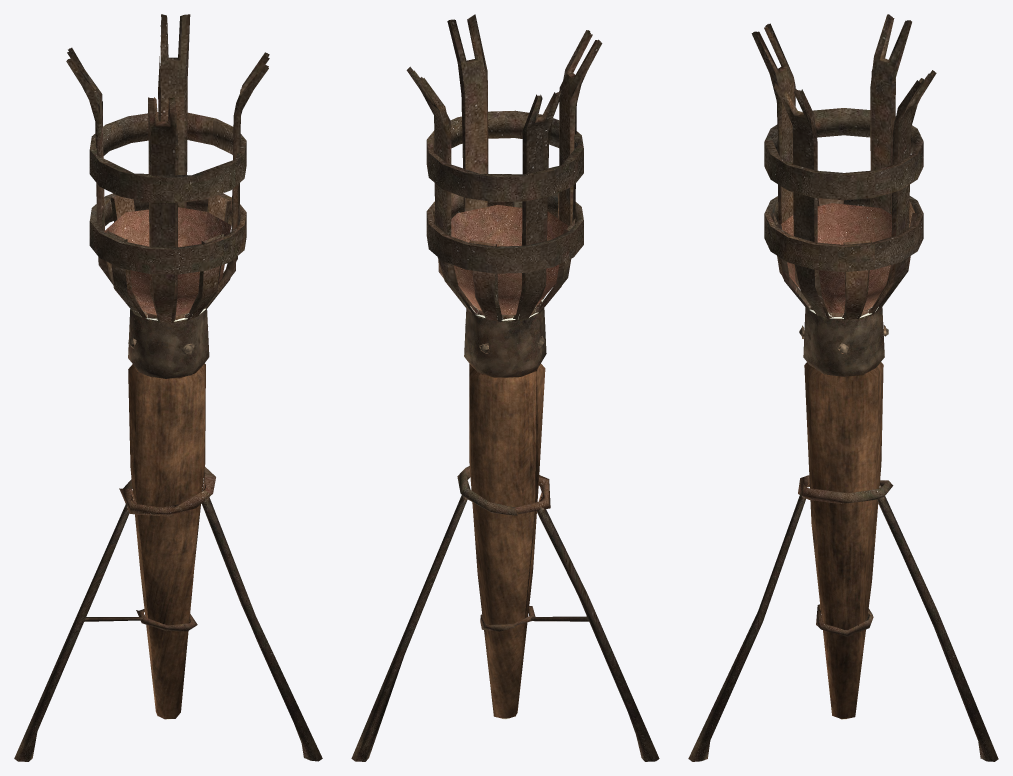
File: torch.glb
3 renders of one model, left to right at view 1: azimuth 30°, elevation 25°; view 2: azimuth 150°, elevation 25°; view 3: azimuth 270°, elevation 25°, orthographic.
Visible parts, largest first — view 1: ch1.torch.002; view 2: ch1.torch.002; view 3: ch1.torch.002.
Part boxes in pixels (left/top/right/bottom): ch1.torch.002: left=14, top=14, right=322, bottom=761; ch1.torch.002: left=351, top=14, right=659, bottom=761; ch1.torch.002: left=688, top=14, right=998, bottom=761.
Size of the model in its own units: 0.4547 by 1.25 by 0.5235.
2 materials, 2 textured.
